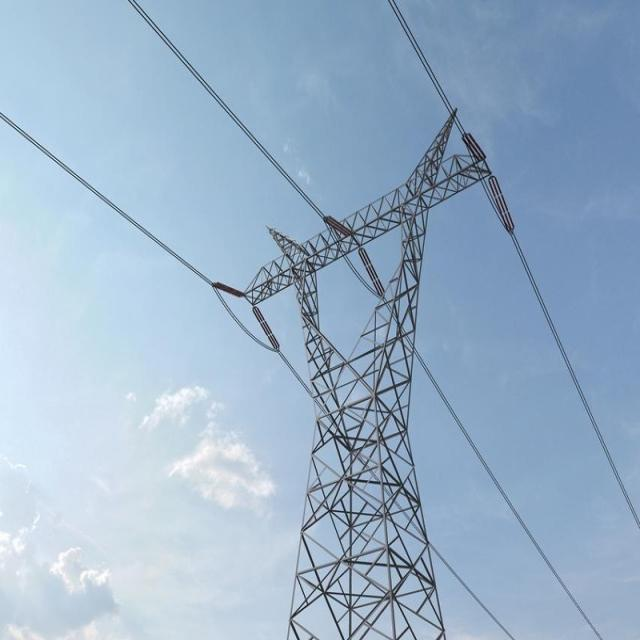non-critical vegetation: (200, 131, 516, 636)
